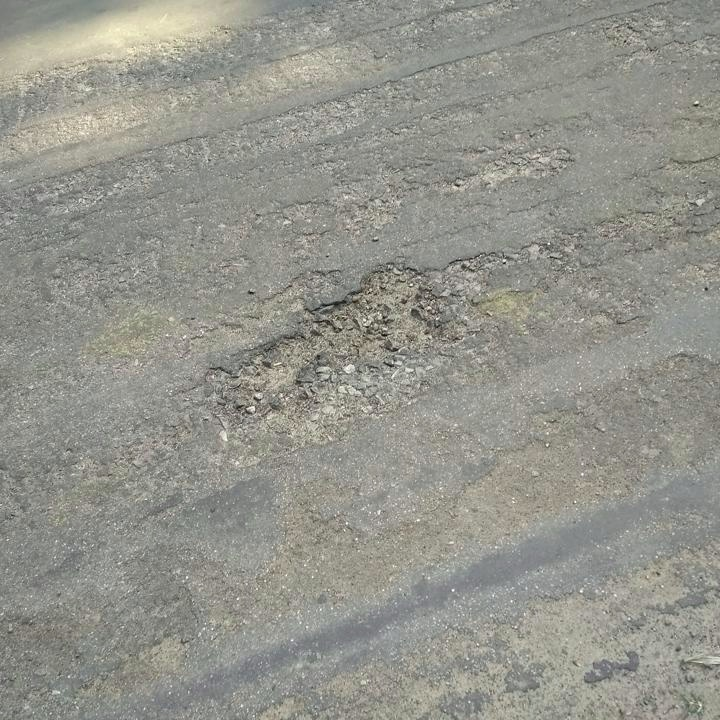pothole: (203, 254, 451, 424), (446, 144, 571, 192)
